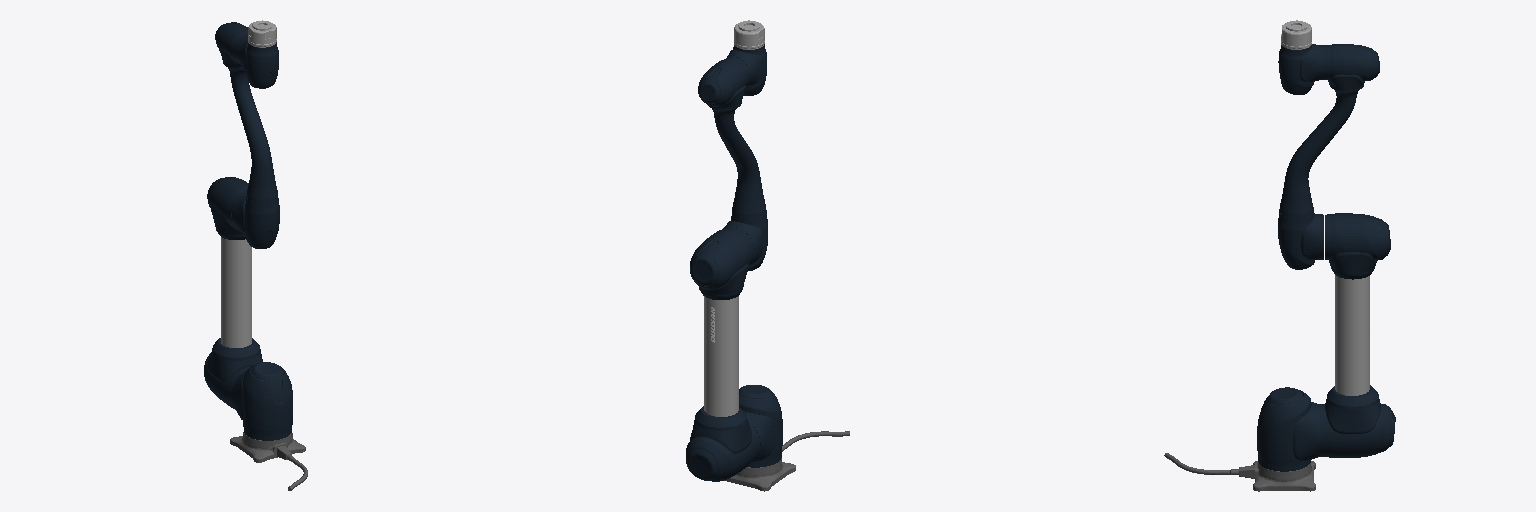
URDF robot description (m1013):
<?xml version="1.0" ?>
<robot name="m1013">

  <link name="base"/>
  <joint name="fixed" type="fixed">
    <parent link="base"/>
    <child link="base_0"/>
  </joint>
  
  <link name="base_0">
	<inertial>
	  <mass value="3.722"/>
	  <origin xyz="-1.2e-05 -6e-05 0.050723"/>
      <inertia ixx="0.011" ixy="-7.19e-06" ixz="-1.94e-06" iyy="0.011" iyz="4.9e-06" izz="0.014"/>
    </inertial>
	<visual>
      <origin rpy="0 0 0" xyz="0 0 0"/>
      <geometry>
        <mesh filename="package://dsr_description2/meshes/m1013_blue/MF1013_0_0.dae" scale="0.001 0.001 0.001"/>
      </geometry>
    </visual>
  </link>

  <joint name="joint1" type="revolute">
    <parent link="base_0"/>
    <child link="link1"/>
    <origin rpy="0 0 0" xyz="0 0 0.1525"/>
    <axis xyz="0 0 1"/>
    <limit effort="30" lower="-2.617" upper="2.617" velocity="1.571"/>
  </joint>

  <link name="link1">
	<inertial>
	  <mass value="7.446"/>
	  <origin xyz="7e-05 0.044281 0.143327"/>
      <inertia ixx="0.039" ixy="2.1e-05" ixz="-3.61e-05" iyy="0.023" iyz="-0.003" izz="0.039"/>
    </inertial>
    <visual>
      <origin rpy="0 0 0" xyz="0 0 0"/>
      <geometry>
        <mesh filename="package://dsr_description2/meshes/m1013_blue/MF1013_1_0.dae" scale="0.001 0.001 0.001"/>
      </geometry>
    </visual>
  </link>
  
  <joint name="joint2" type="revolute">
    <parent link="link1"/>
    <child link="link2"/>
    <origin rpy="0 -1.571 -1.571" xyz="0 0.0345 0"/>
    <axis xyz="0 0 1"/>
    <limit effort="30" lower="-2.617" upper="2.617" velocity="1.571"/>
  </joint>

  <link name="link2">
	<inertial>
	  <mass value="10.569"/>
	  <origin xyz="-1.6e-05 0.189372 0.418558"/>
      <inertia ixx="0.820" ixy="1.19e-05" ixz="-0.000263" iyy="0.82" iyz="-0.008" izz="0.031"/>
    </inertial>
    <visual>
      <origin rpy="0 0 0" xyz="0 0 0"/>
      <geometry>
        <mesh filename="package://dsr_description2/meshes/m1013_blue/MF1013_2_0.dae" scale="0.001 0.001 0.001"/>
      </geometry>
    </visual>
    <visual>
      <origin rpy="0 0 0" xyz="0 0 0"/>
      <geometry>     
		<mesh filename="package://dsr_description2/meshes/m1013_blue/MF1013_2_1.dae" scale="0.001 0.001 0.001"/>
      </geometry>
	  </visual>
    <visual>
      <origin rpy="0 0 0" xyz="0 0 0"/>
      <geometry>     
		<mesh filename="package://dsr_description2/meshes/m1013_blue/MF1013_2_2.dae" scale="0.001 0.001 0.001"/>
      </geometry>
    </visual>	
  </link>

  <joint name="joint3" type="revolute">
    <parent link="link2"/>
    <child link="link3"/>
    <origin rpy="0 0 1.571" xyz="0.62 0 0"/>
    <axis xyz="0 0 1"/>
    <limit effort="30" lower="-2.617" upper="2.617" velocity="1.571"/>
  </joint>
  
  <link name="link3">
	<inertial>
	  <mass value="3.614"/>
	  <origin xyz="6e-06 0.07917 0.781807"/>
      <inertia ixx="0.012" ixy="-4.38e-06" ixz="-1.2e-06" iyy="0.008" iyz="0.002" izz="0.011"/>
    </inertial>
    <visual>
      <origin rpy="0 0 0" xyz="0 0 0"/>
      <geometry>     
		<mesh filename="package://dsr_description2/meshes/m1013_blue/MF1013_3_0.dae" scale="0.001 0.001 0.001"/>
      </geometry>
    </visual>
  </link>

  <joint name="joint4" type="revolute">
    <parent link="link3"/>
    <child link="link4"/>
    <origin rpy="1.571 0 0" xyz="0 -0.559 0"/>
    <axis xyz="0 0 1"/>
    <limit effort="30" lower="-2.617" upper="2.617" velocity="1.571"/>
  </joint>
  
  <link name="link4">
	<inertial>
	  <mass value="3.785"/>
	  <origin xyz="-2.1e-05 0.12337 1.148"/>
      <inertia ixx="0.177" ixy="-2.34e-06" ixz="-4.92e-06" iyy="0.161" iyz="-0.05" izz="0.022"/>
    </inertial>
    <visual>
      <origin rpy="0 0 0" xyz="0 0 0"/>
      <geometry>     
		<mesh filename="package://dsr_description2/meshes/m1013_blue/MF1013_4_0.dae" scale="0.001 0.001 0.001"/>
      </geometry>
    </visual>
    <visual>
      <origin rpy="0 0 0" xyz="0 0 0"/>
      <geometry>     
		<mesh filename="package://dsr_description2/meshes/m1013_blue/MF1013_4_1.dae" scale="0.001 0.001 0.001"/>
      </geometry>
    </visual>
  </link>

  <joint name="joint5" type="revolute">
    <parent link="link4"/>
    <child link="link5"/>
    <origin rpy="-1.571 0 0" xyz="0 0 0"/>
    <axis xyz="0 0 1"/>
    <limit effort="30" lower="-2.617" upper="2.617" velocity="1.571"/>
  </joint>
  
  <link name="link5">
	<inertial>
	  <mass value="2.598"/>
	  <origin xyz="-1.7e-05 0.06662 1.33103"/>
      <inertia ixx="0.007" ixy="-4.93e-06" ixz="-5.57e-06" iyy="0.004" iyz="-6.64e-05" izz="0.007"/>
    </inertial>
    <visual>
      <origin rpy="0 0 0" xyz="0 0 0"/>
      <geometry>     
		<mesh filename="package://dsr_description2/meshes/m1013_blue/MF1013_5_0.dae" scale="0.001 0.001 0.001"/>
      </geometry>
    </visual>
  </link>

  <joint name="joint6" type="revolute">
    <parent link="link5"/>
    <child link="link6"/>
    <origin rpy="1.571 0 0" xyz="0 -0.121 0"/>
    <axis xyz="0 0 1"/>
    <limit effort="30" lower="-2.617" upper="2.617" velocity="1.571"/>
  </joint>
  
  <link name="link6">
	<inertial>
	  <mass value="1.128"/>
	  <origin xyz="-0.000174 0.034708 1.40022"/>
      <inertia ixx="0.001" ixy="-2.79e-06" ixz="5.78e-06" iyy="0.001" iyz="-6.67e-06" izz="0.001"/>
    </inertial>
    <visual>
      <origin rpy="0 0 0" xyz="0 0 0"/>
      <geometry>     
		<mesh filename="package://dsr_description2/meshes/m1013_blue/MF1013_6_0.dae" scale="0.001 0.001 0.001"/>
      </geometry>
    </visual>
  </link>
  
</robot>

--- Render facts (derived) ---
3 views of the same robot in one strip: view 1: azimuth 30°, elevation 25°; view 2: azimuth 150°, elevation 25°; view 3: azimuth 270°, elevation 25° (orthographic).
Model m1013 with 8 links and 7 joints (6 revolute, 1 fixed), rooted at base, posed all joints at 0.
Visible links, largest first — view 1: link2, link1, link4, link3, link5, base_0, link6; view 2: link2, link4, link1, base_0, link3, link5, link6; view 3: link2, link4, link1, link3, base_0, link5, link6.
Boxes of the visible links, left/top/right/bottom form: link2: left=204, top=177, right=262, bottom=408; link1: left=231, top=362, right=292, bottom=440; link4: left=215, top=22, right=277, bottom=202; link3: left=232, top=193, right=279, bottom=248; link5: left=236, top=37, right=278, bottom=88; base_0: left=230, top=432, right=307, bottom=490; link6: left=248, top=20, right=276, bottom=47; link2: left=686, top=227, right=759, bottom=481; link4: left=698, top=57, right=766, bottom=217; link1: left=739, top=385, right=782, bottom=467; base_0: left=724, top=431, right=849, bottom=491; link3: left=724, top=211, right=767, bottom=270; link5: left=727, top=44, right=766, bottom=95; link6: left=734, top=20, right=764, bottom=49; link2: left=1320, top=213, right=1395, bottom=457; link4: left=1279, top=44, right=1379, bottom=217; link1: left=1257, top=387, right=1319, bottom=471; link3: left=1278, top=212, right=1323, bottom=269; base_0: left=1164, top=453, right=1315, bottom=491; link5: left=1278, top=44, right=1323, bottom=94; link6: left=1281, top=20, right=1311, bottom=49.
Bounding box of the posed robot: 0.2144 × 0.6714 × 1.45 m (x, y, z).
Meshes: 10 distinct files referenced, 10 mesh visuals loaded (10 Collada DAE).